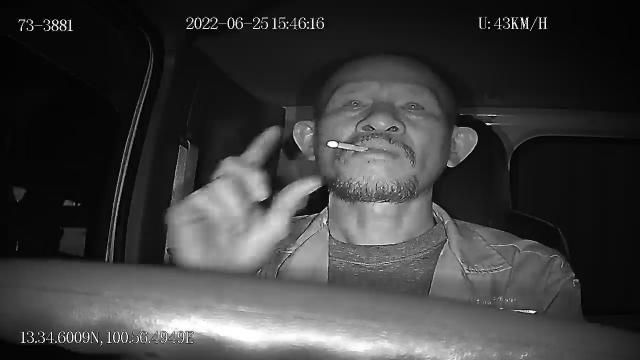SafeDriving: (334, 89, 371, 119), (394, 94, 432, 120)
Smoking: (327, 139, 367, 151)
